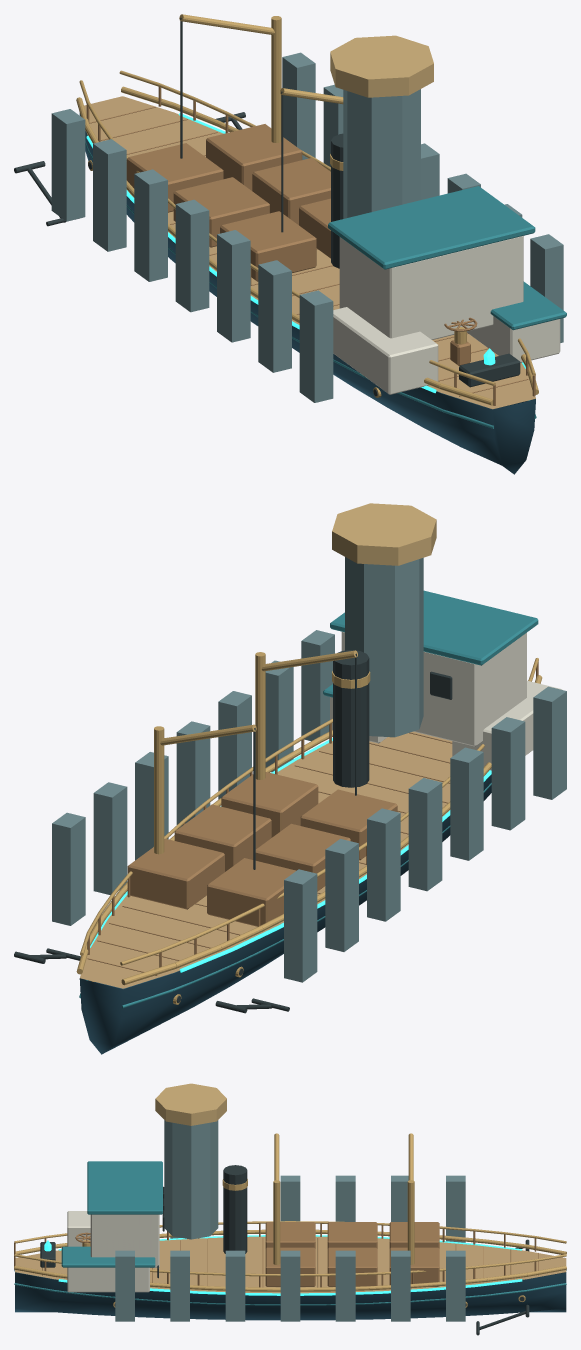
File: ship_freighter.glb
3 views of the same model, one above another, from view 1: azimuth 30°, elevation 25°; view 2: azimuth 150°, elevation 25°; view 3: azimuth 270°, elevation 25° (orthographic). The views are drawn at different scales.
Visible parts, largest first — view 1: ship_freighter; view 2: ship_freighter; view 3: ship_freighter.
Boxes of the visible parts, x1,y1,x2,y2 form: ship_freighter: (14,14,566,474); ship_freighter: (14,503,566,1054); ship_freighter: (14,1083,566,1335).
Bounding box in the file's own units: 5.57 × 6.84 × 16.05.
